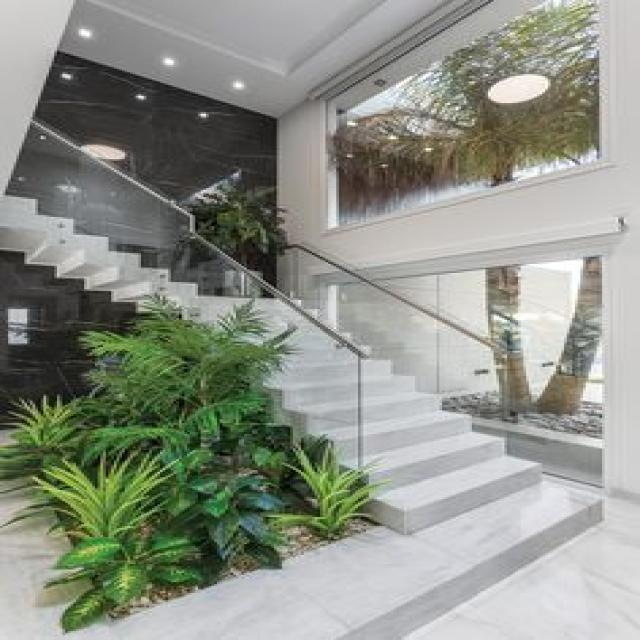stairs: (0, 117, 605, 638)
